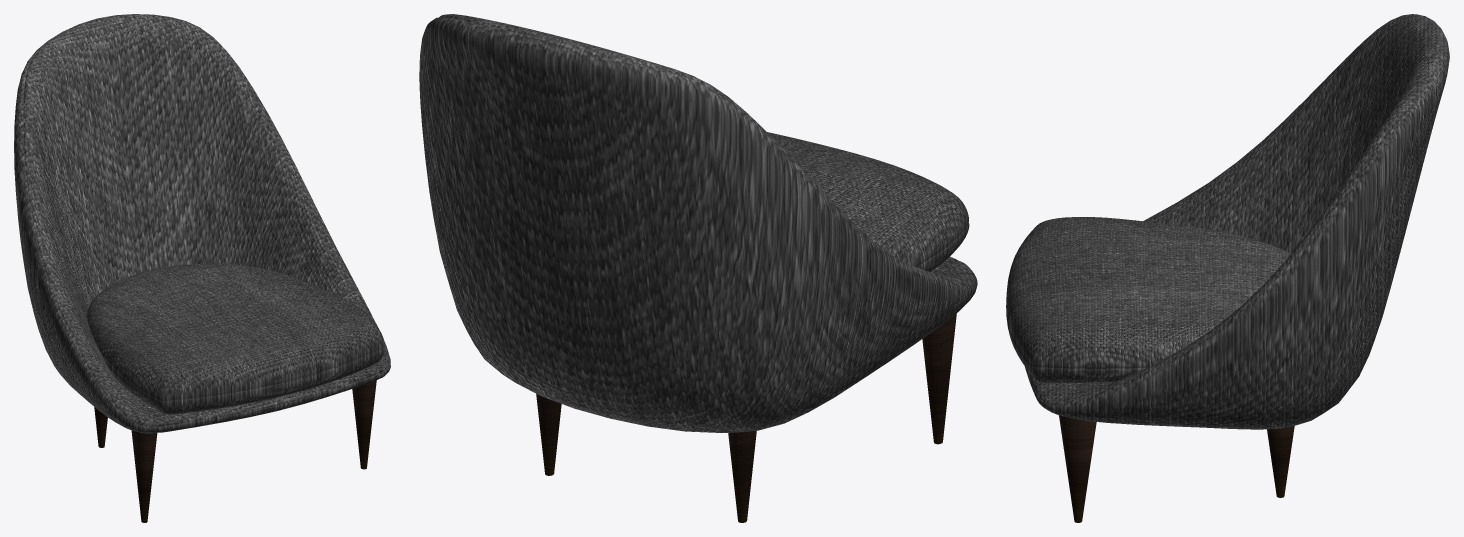
The model's file is Silla.obj.
The picture shows the model from 3 angles, left to right: view 1: azimuth 30°, elevation 25°; view 2: azimuth 150°, elevation 25°; view 3: azimuth 270°, elevation 25°; orthographic projection. The views are drawn at different scales.
Parts seen in each view (by area): view 1: dstylish03, dstylish01, polySurface1 pCylinder7, polySurface1 pCylinder8; view 2: dstylish03, dstylish01, polySurface1 pCylinder7, pCylinder7 polySurface3, pCylinder8 polySurface2; view 3: dstylish03, dstylish01, polySurface1 pCylinder8, pCylinder8 polySurface2.
Part boxes in pixels (x1=…): dstylish03: x1=14, y1=14, x2=390, y2=433; dstylish01: x1=87, y1=263, x2=384, y2=414; polySurface1 pCylinder7: x1=131, y1=430, x2=157, y2=522; polySurface1 pCylinder8: x1=352, y1=380, x2=376, y2=469; dstylish03: x1=419, y1=14, x2=977, y2=432; dstylish01: x1=767, y1=132, x2=969, y2=271; polySurface1 pCylinder7: x1=922, y1=313, x2=956, y2=444; pCylinder7 polySurface3: x1=728, y1=431, x2=756, y2=522; pCylinder8 polySurface2: x1=536, y1=393, x2=561, y2=475; dstylish03: x1=1025, y1=14, x2=1449, y2=429; dstylish01: x1=1006, y1=217, x2=1290, y2=383; polySurface1 pCylinder8: x1=1059, y1=415, x2=1096, y2=522; pCylinder8 polySurface2: x1=1267, y1=425, x2=1294, y2=497.
Bounding box in the file's own units: 2.22 × 2.71 × 2.61.
Materials: 3 (3 with a texture image).
